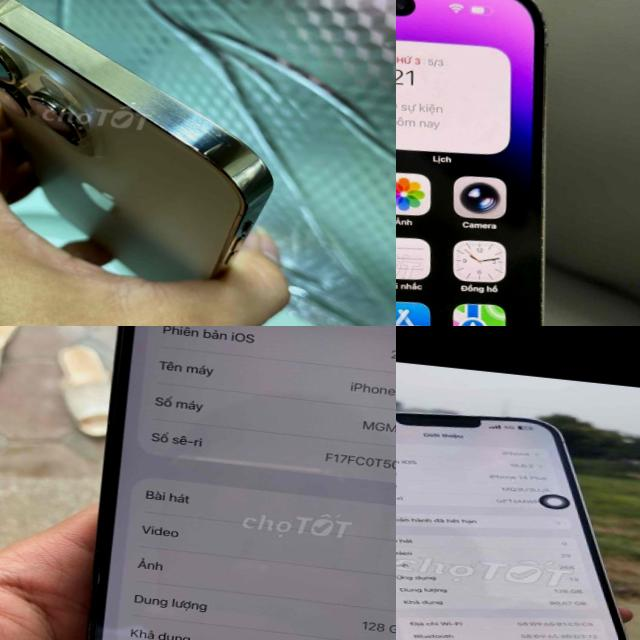gen_12_13: (58, 326, 396, 640)
gen_14: (0, 0, 295, 301), (396, 0, 614, 326), (396, 393, 640, 640)
